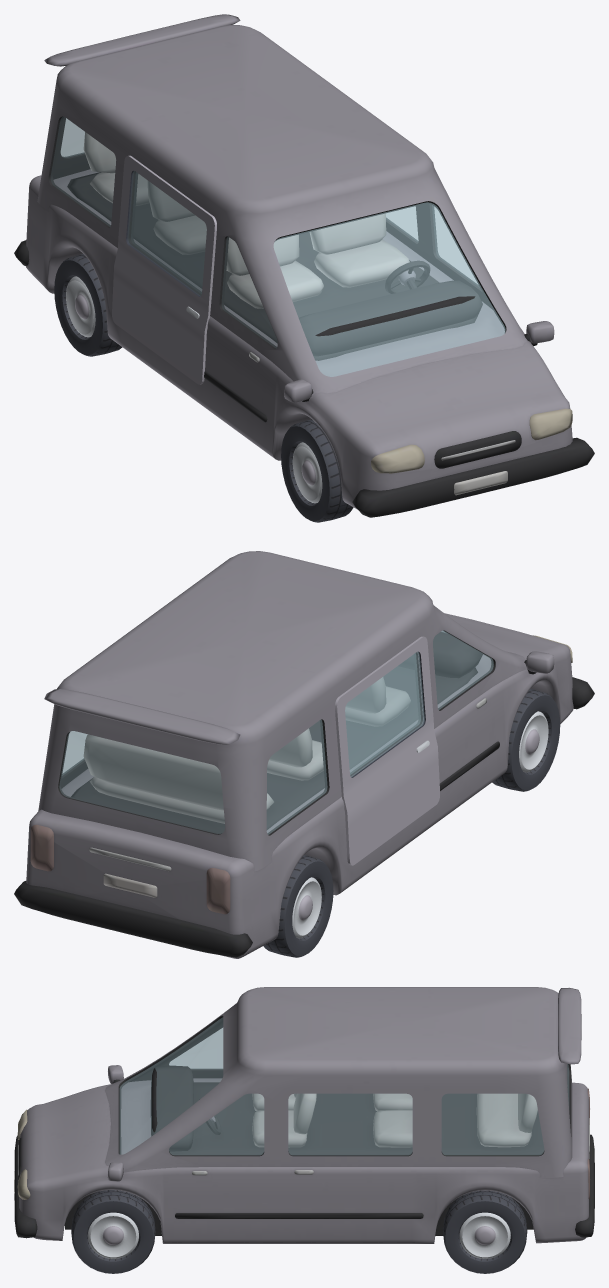
File: minivan.glb
3 renders of one model, top to bottom at view 1: azimuth 30°, elevation 25°; view 2: azimuth 150°, elevation 25°; view 3: azimuth 270°, elevation 25°, orthographic. The views are drawn at different scales.
Visible parts, largest first — view 1: minivan_body, minivan_windows, minivan_sliding_door, minivan_wheel_fr, minivan_wheel_rr; view 2: minivan_body, minivan_windows, minivan_sliding_door, minivan_wheel_rr, minivan_wheel_fr; view 3: minivan_body, minivan_windows, minivan_wheel_fl, minivan_wheel_rl.
Boxes of the visible parts, x1=… form: minivan_body: x1=14, y1=14, x2=594, y2=517; minivan_windows: x1=51, y1=116, x2=505, y2=376; minivan_sliding_door: x1=112, y1=155, x2=216, y2=384; minivan_wheel_fr: x1=281, y1=419, x2=353, y2=522; minivan_wheel_rr: x1=54, y1=254, x2=122, y2=356; minivan_body: x1=14, y1=551, x2=594, y2=958; minivan_windows: x1=59, y1=630, x2=493, y2=834; minivan_sliding_door: x1=335, y1=636, x2=439, y2=865; minivan_wheel_rr: x1=263, y1=855, x2=333, y2=957; minivan_wheel_fr: x1=492, y1=689, x2=560, y2=791; minivan_body: x1=14, y1=987, x2=594, y2=1243; minivan_windows: x1=120, y1=1017, x2=568, y2=1154; minivan_wheel_fl: x1=71, y1=1190, x2=155, y2=1273; minivan_wheel_rl: x1=443, y1=1190, x2=527, y2=1273.
Size of the model in its own units: 2.09 by 1.89 by 4.81.
Materials: 22 (5 with a texture image).
